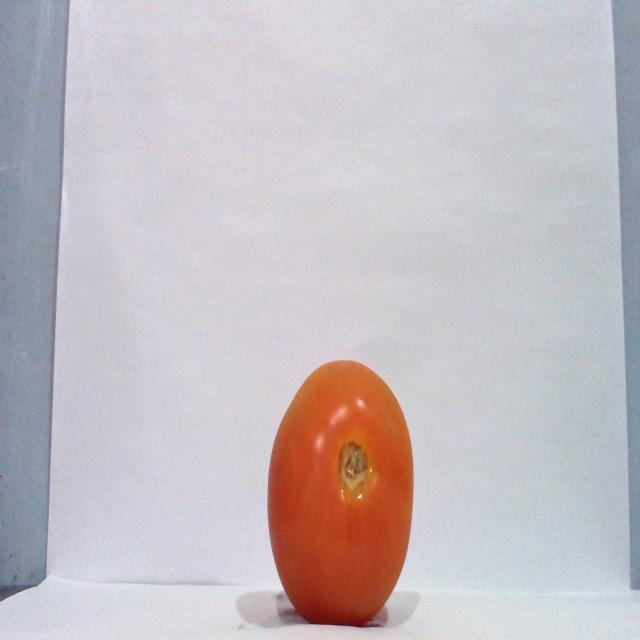Red: (265, 358, 415, 626)
